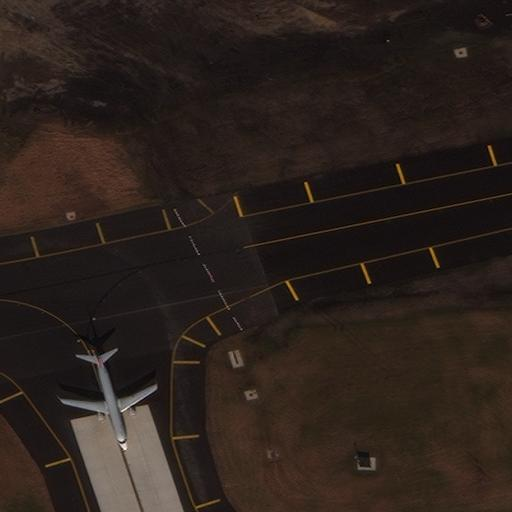Medium Civil Transport: (62, 348, 157, 450)
